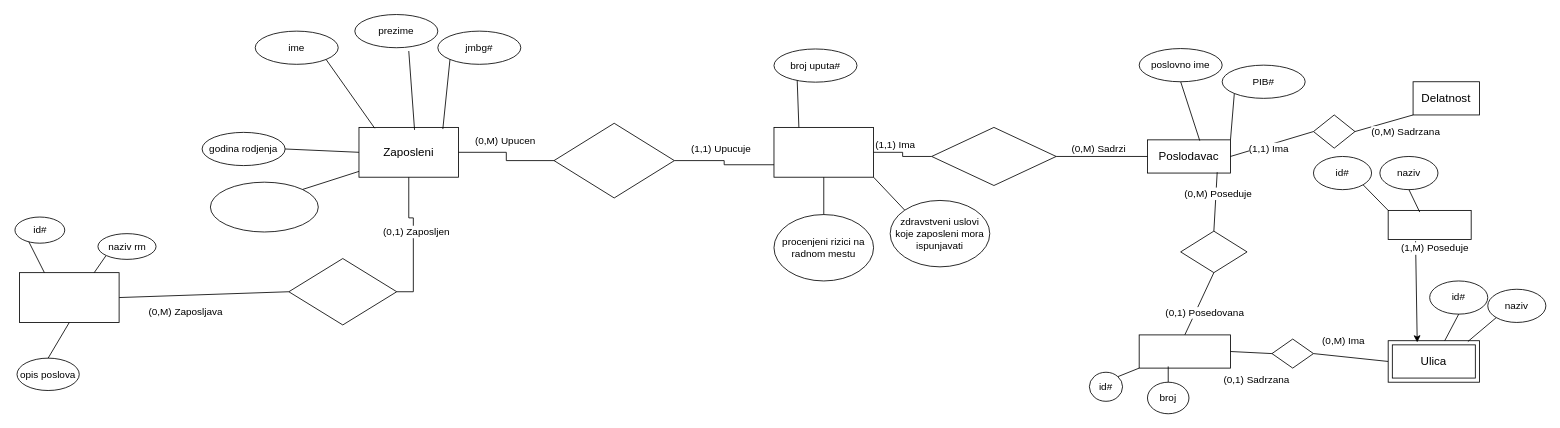
This 1560x428 diagram has some shape labels left out. The shapes that lost their labels are listed below. From the top down, each one's centre as x and y in pixels, then its label:
point (1334, 131): bavi se
point (613, 160): upucivanje na lekarski pregled
point (823, 152): Uput na prethodni lekarski pregled
point (993, 156): davanje uputa
point (264, 206): mesto rodjenja
point (1429, 224): Grad
point (1213, 251): boravi
point (69, 297): Radno mesto
point (342, 291): Radi
point (1184, 351): Adresa
point (1292, 353): sadrzi
